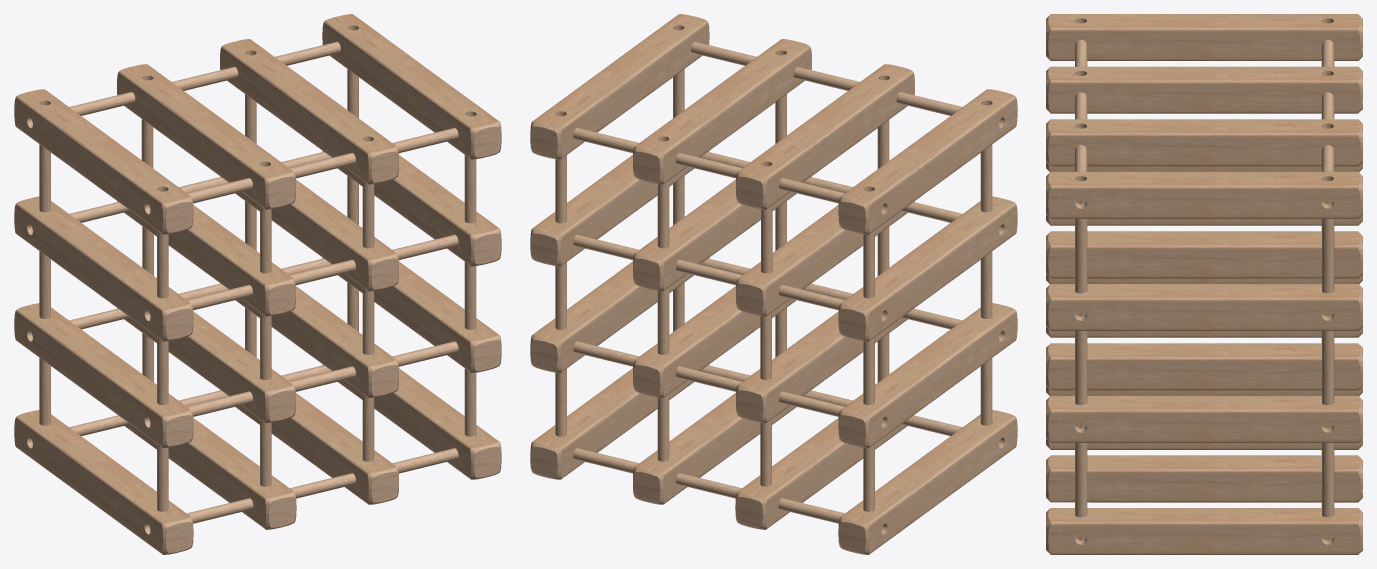
The model's file is frassino-grezzo.gltf.
The picture shows the model from 3 angles, left to right: view 1: azimuth 30°, elevation 25°; view 2: azimuth 150°, elevation 25°; view 3: azimuth 270°, elevation 25°; orthographic projection. The views are drawn at different scales.
Visible parts, largest first — view 1: Cube.049; view 2: Cube.049; view 3: Cube.049.
Part boxes in pixels (x1,y1,x2,y2): Cube.049: [14, 14, 501, 554]; Cube.049: [530, 14, 1017, 554]; Cube.049: [1046, 14, 1362, 554].
Size of the model in its own units: 66.83 by 66.42 by 51.61.
2 materials, 2 textured.
